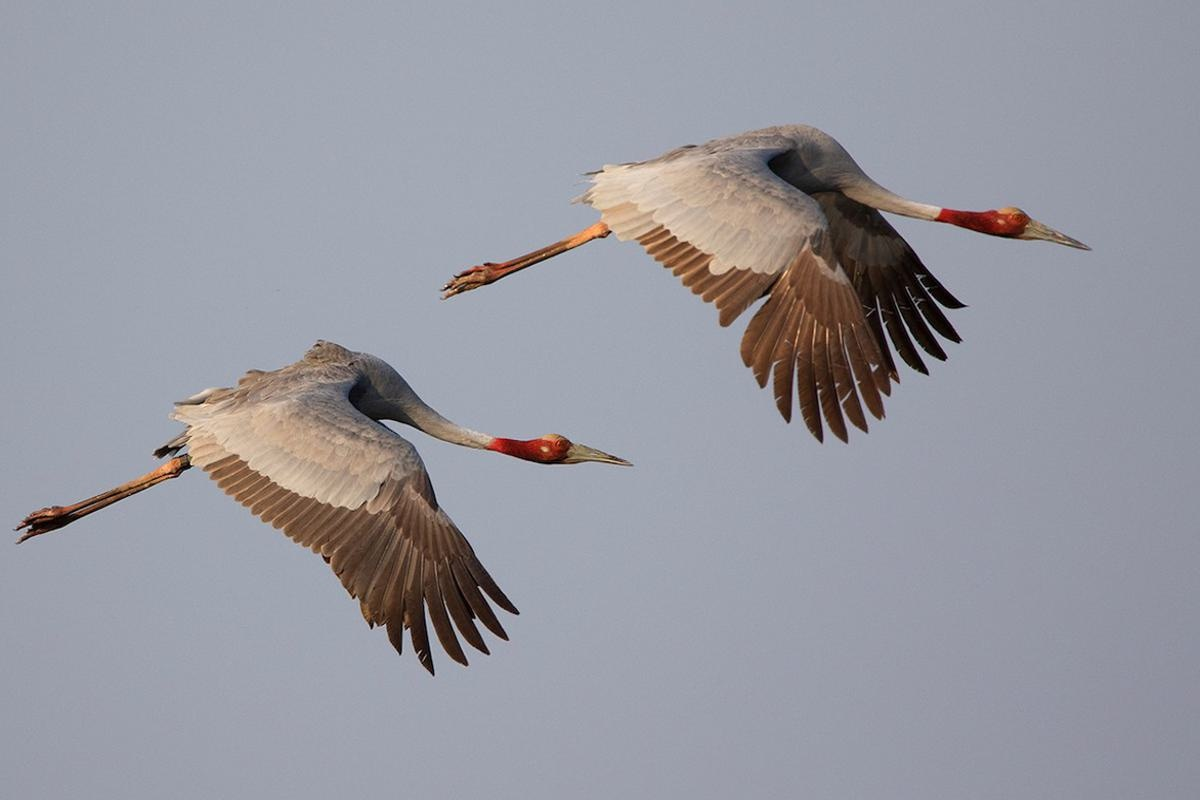crane: (1, 316, 645, 646), (419, 102, 1089, 400)
